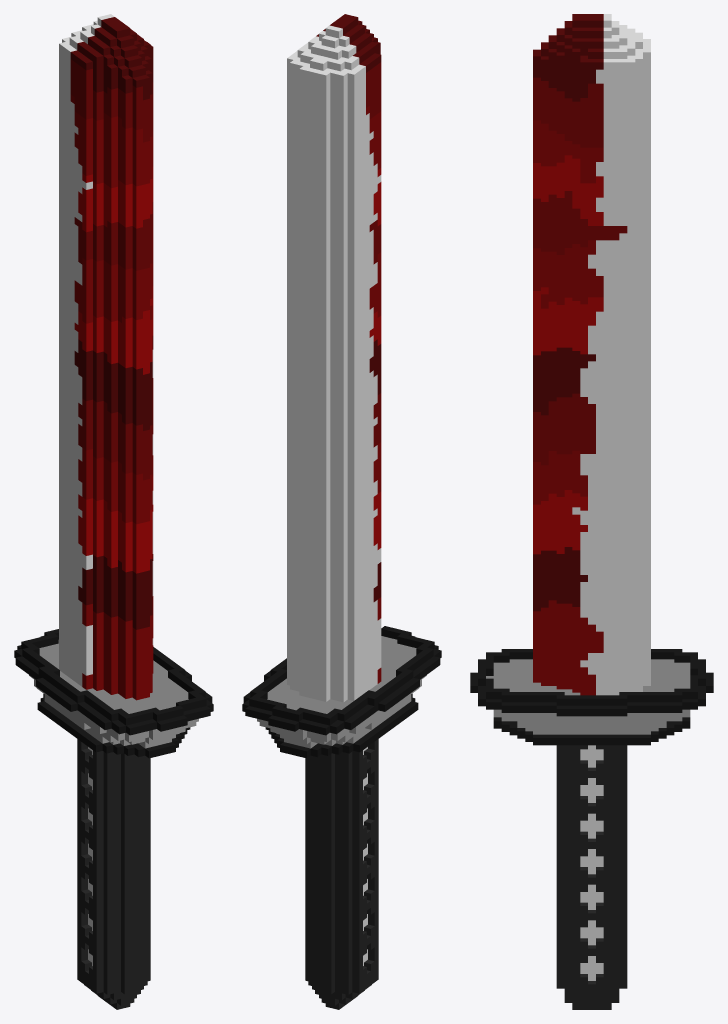
The model's file is Katana Sword.obj.
The picture shows the model from 3 angles, left to right: view 1: azimuth 30°, elevation 25°; view 2: azimuth 150°, elevation 25°; view 3: azimuth 270°, elevation 25°; orthographic projection.
Bounding box in the file's own units: 1.8 × 13.9 × 3.1.
Materials: 1 (1 with a texture image).
